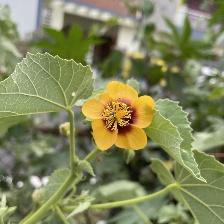indian mallow: (81, 80, 154, 154)
